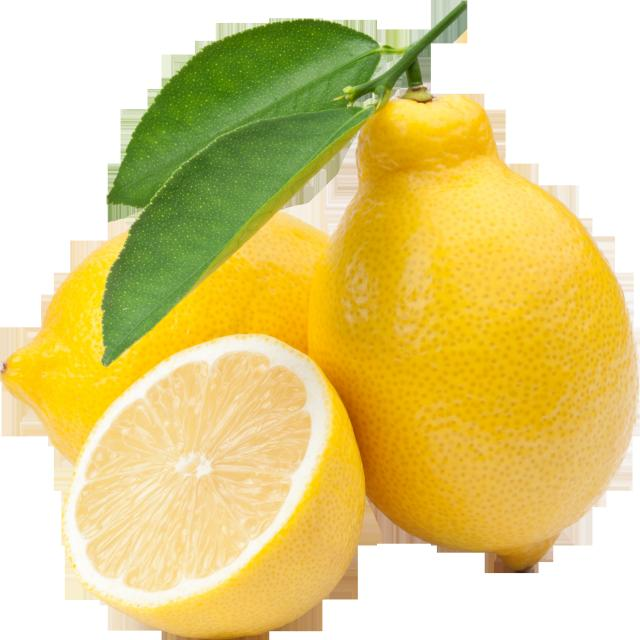lemon: (356, 155, 640, 576), (56, 379, 364, 637)
